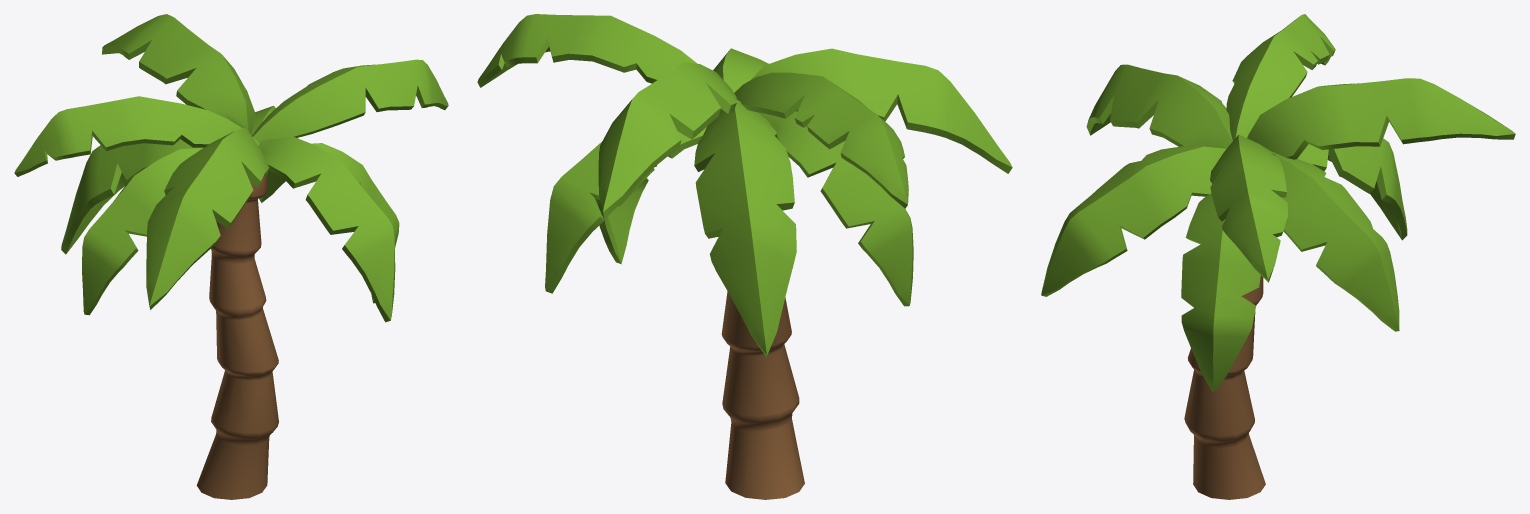
File: palm-b.glb
The picture shows the model from 3 angles, left to right: view 1: azimuth 30°, elevation 25°; view 2: azimuth 150°, elevation 25°; view 3: azimuth 270°, elevation 25°; orthographic projection. The views are drawn at different scales.
Visible parts, largest first — view 1: Environment_PalmTree_3; view 2: Environment_PalmTree_3; view 3: Environment_PalmTree_3.
Part boxes in pixels (x1,y1,x2,y2): Environment_PalmTree_3: (14, 14, 448, 499); Environment_PalmTree_3: (477, 14, 1012, 499); Environment_PalmTree_3: (1041, 14, 1515, 499).
Bounding box in the file's own units: 8.52 × 8 × 8.19.
1 material, 1 textured.
